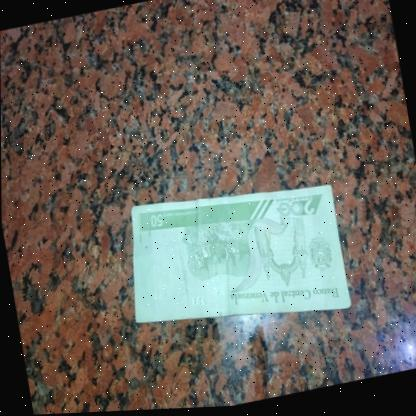fifty-back-vef: (115, 167, 352, 352)
